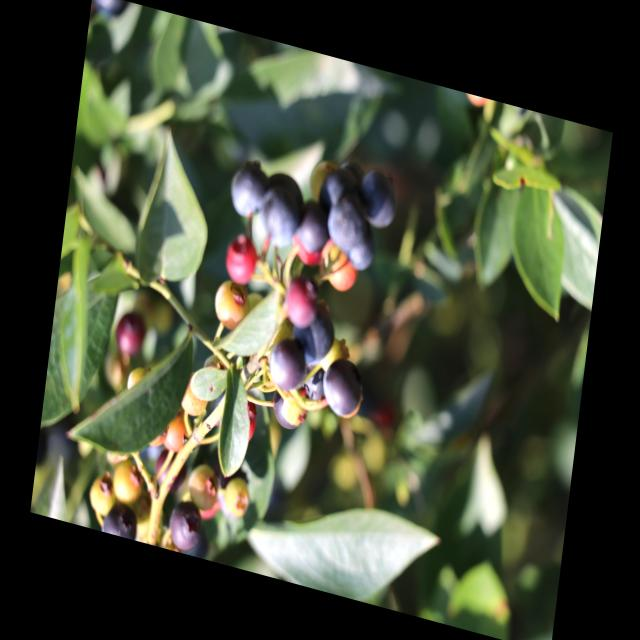blueberry: (259, 168, 306, 250), (227, 152, 271, 221), (292, 298, 336, 366), (355, 167, 401, 230), (319, 356, 362, 419), (267, 332, 309, 394), (326, 197, 366, 254), (268, 380, 307, 434), (167, 500, 204, 552), (344, 229, 379, 280), (297, 202, 332, 252), (113, 308, 147, 357), (316, 170, 351, 217), (102, 500, 141, 541)
blueberry-halfripe: (282, 274, 320, 330), (323, 242, 360, 295), (223, 234, 258, 288), (163, 414, 193, 458), (291, 235, 323, 269)
blueberry-unripe: (212, 276, 254, 338), (184, 462, 222, 515), (111, 453, 147, 504), (86, 472, 119, 518), (222, 472, 252, 518), (181, 372, 209, 420)
